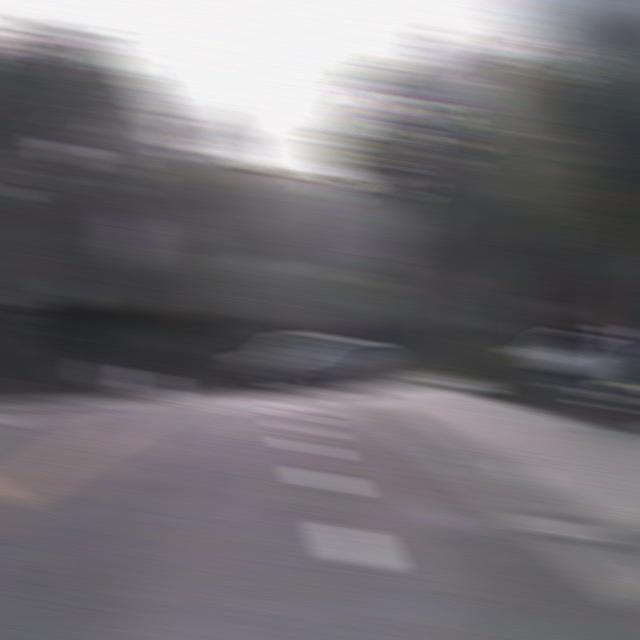stop: (428, 256, 485, 303)
